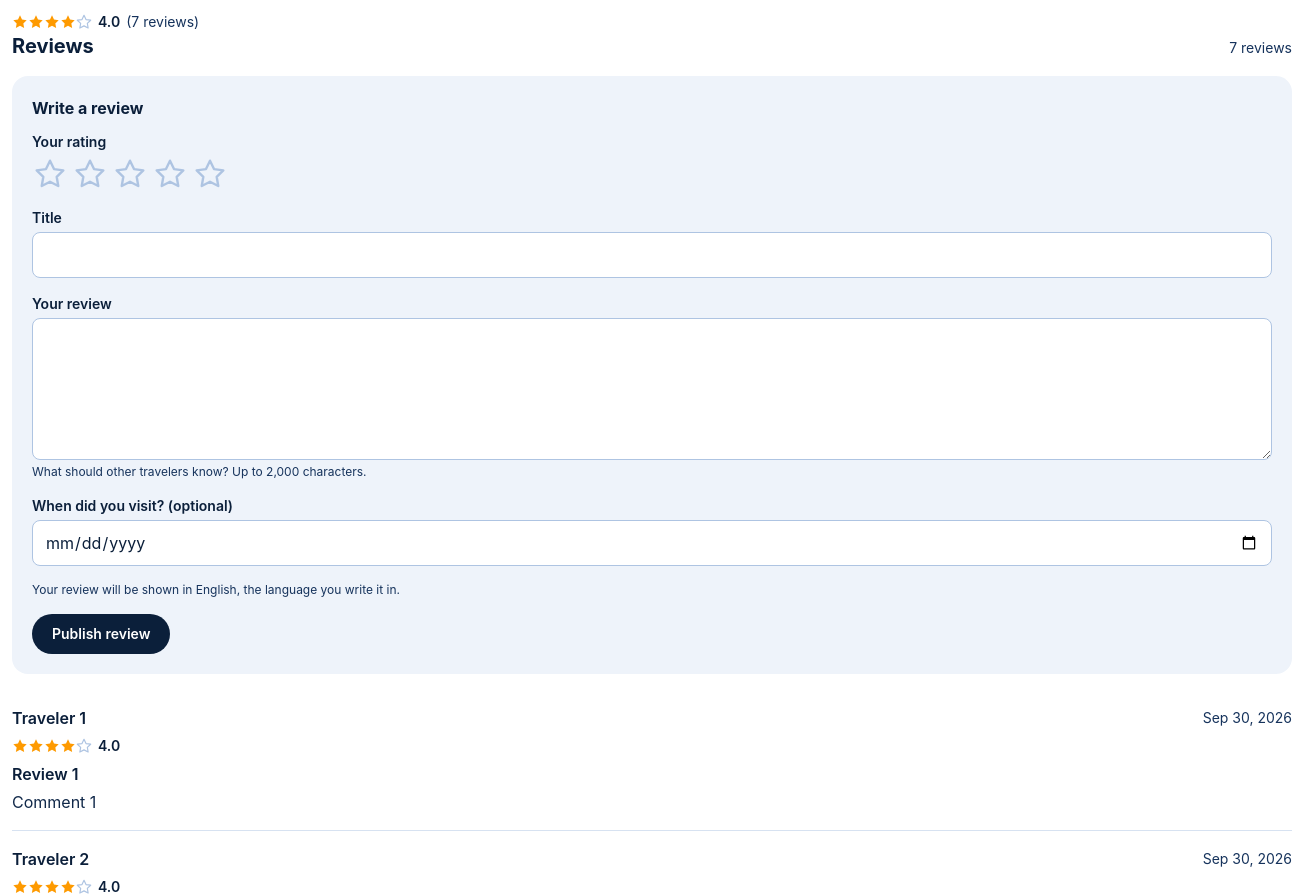
Test case: ReviewsSection › a duplicate (reviewed in another tab) shows a clear message and that review
This screenshot has width=1304, height=895.
Step 1. Click the radio button named "5 stars" → (210,174), box x1=192 y1=156 x2=228 y2=192
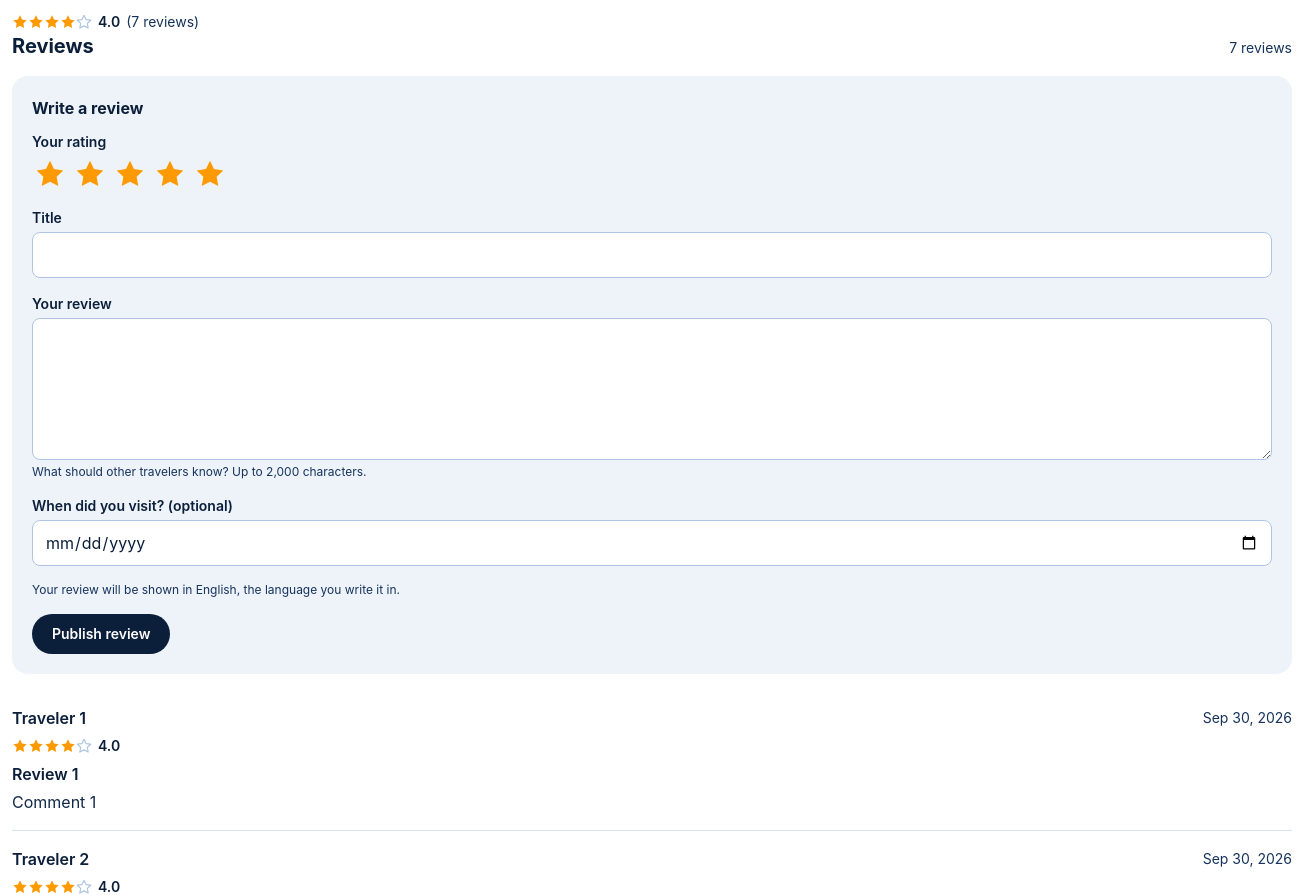
Step 2. Type "Great" into the field labelled "Title" → (652,255), box x1=32 y1=232 x2=1272 y2=278
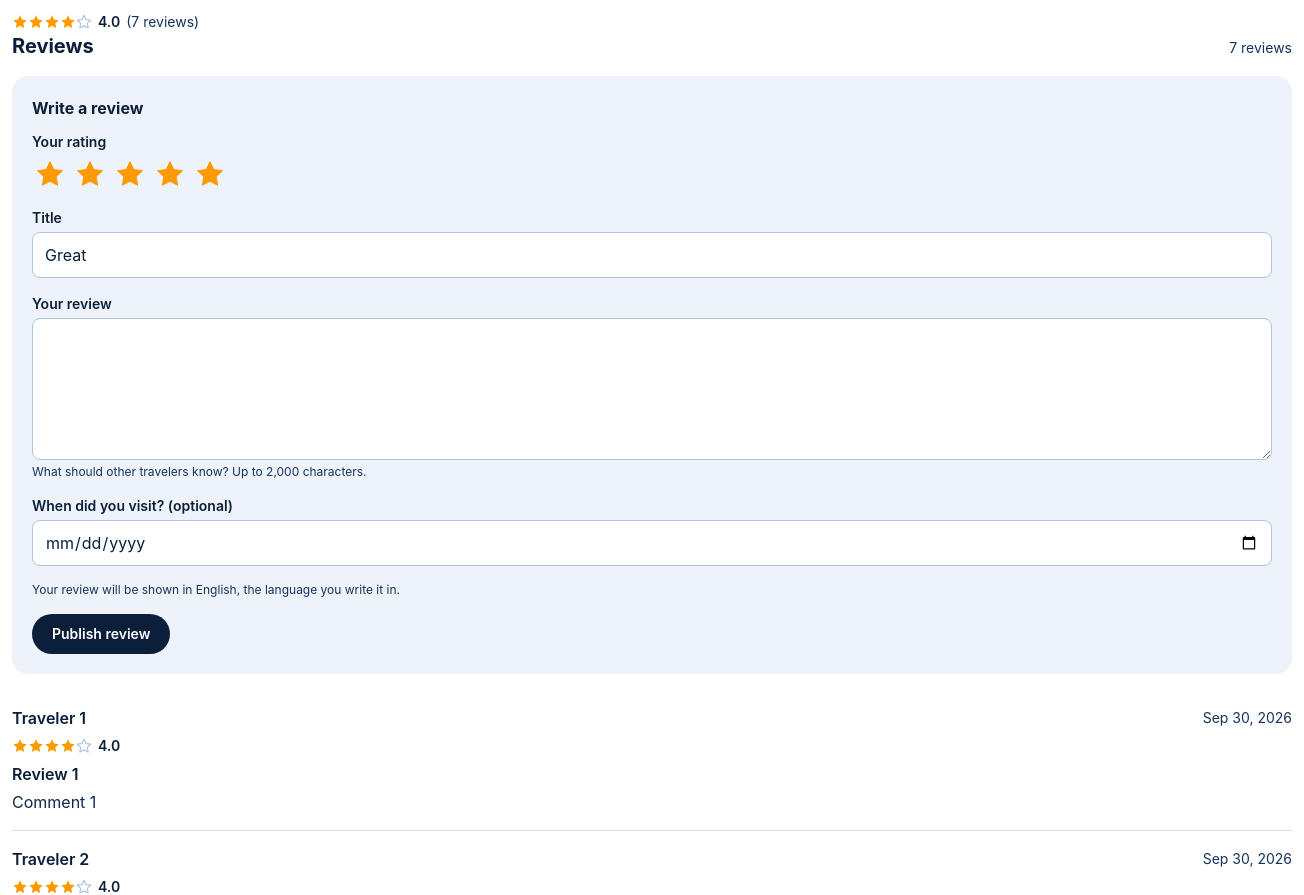
Step 3. Type "Great place." into the text box labelled "Your review" → (652,389), box x1=32 y1=318 x2=1272 y2=460
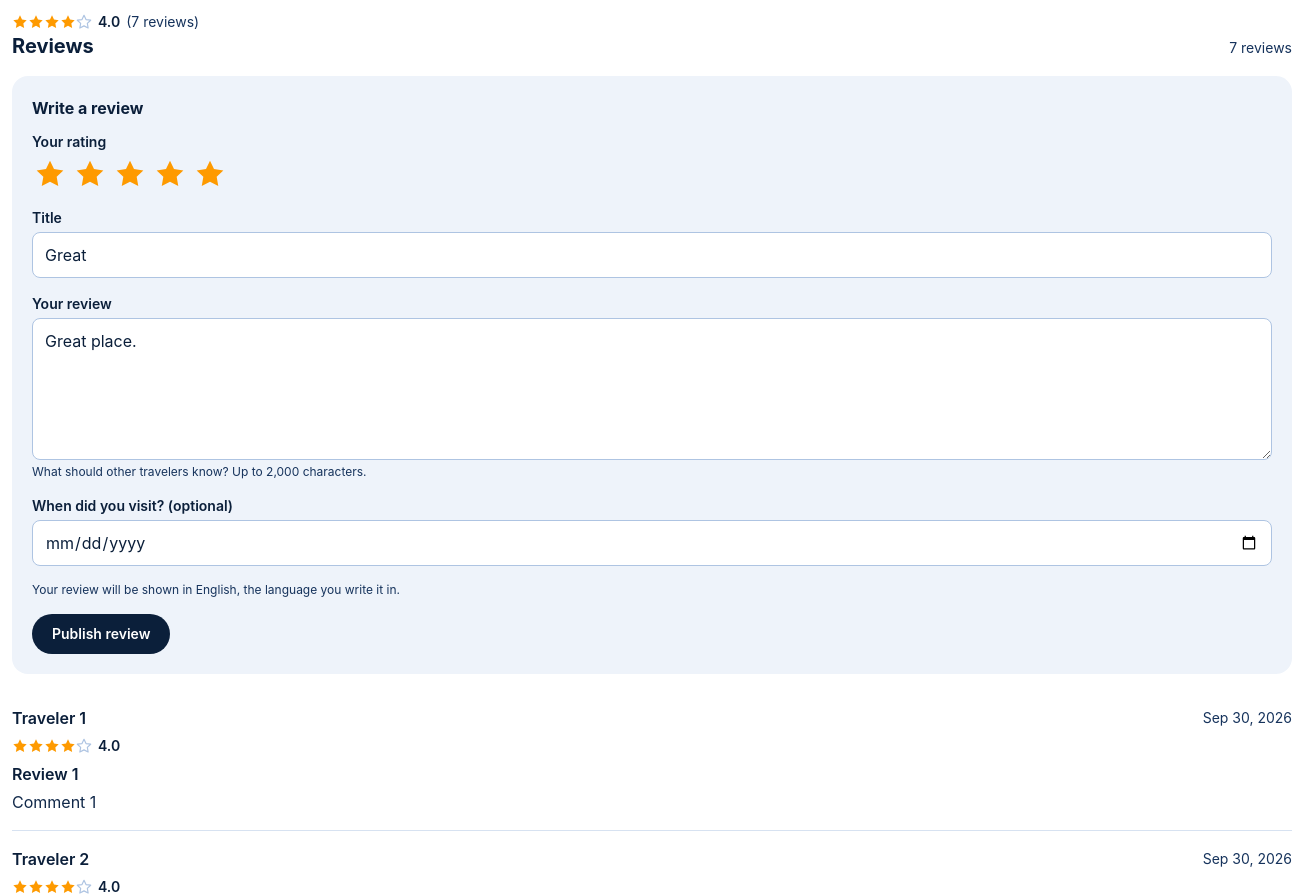
Step 4. Click the button "Publish review" → (101,634), box x1=32 y1=614 x2=170 y2=654
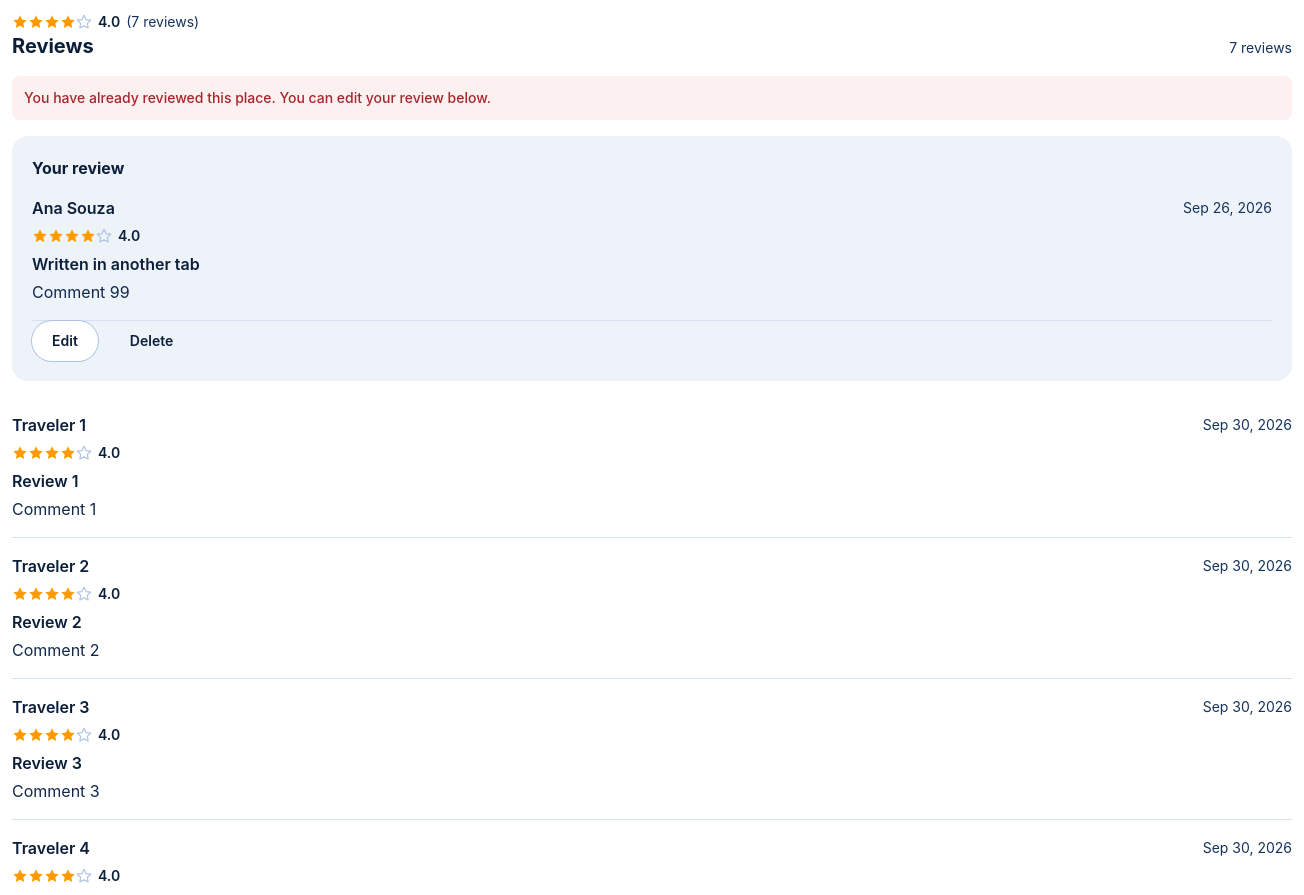
Now the text "You have already reviewed this place. You can edit your review below." is shown, box x1=12 y1=76 x2=1292 y2=120
Now the heading "Written in another tab" is shown, box x1=32 y1=254 x2=200 y2=274
